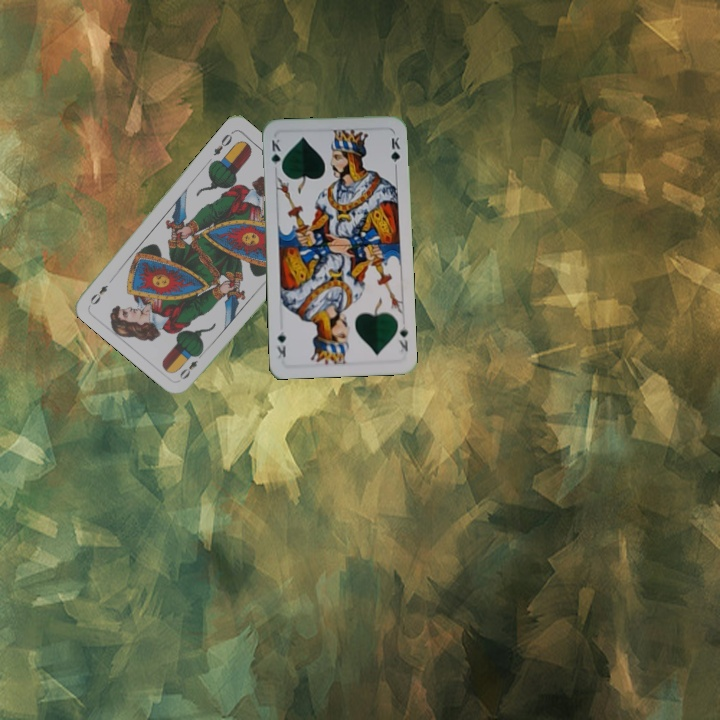EO: (175, 348, 206, 382), (209, 127, 236, 158)
GK: (267, 135, 285, 174), (395, 322, 411, 355)
